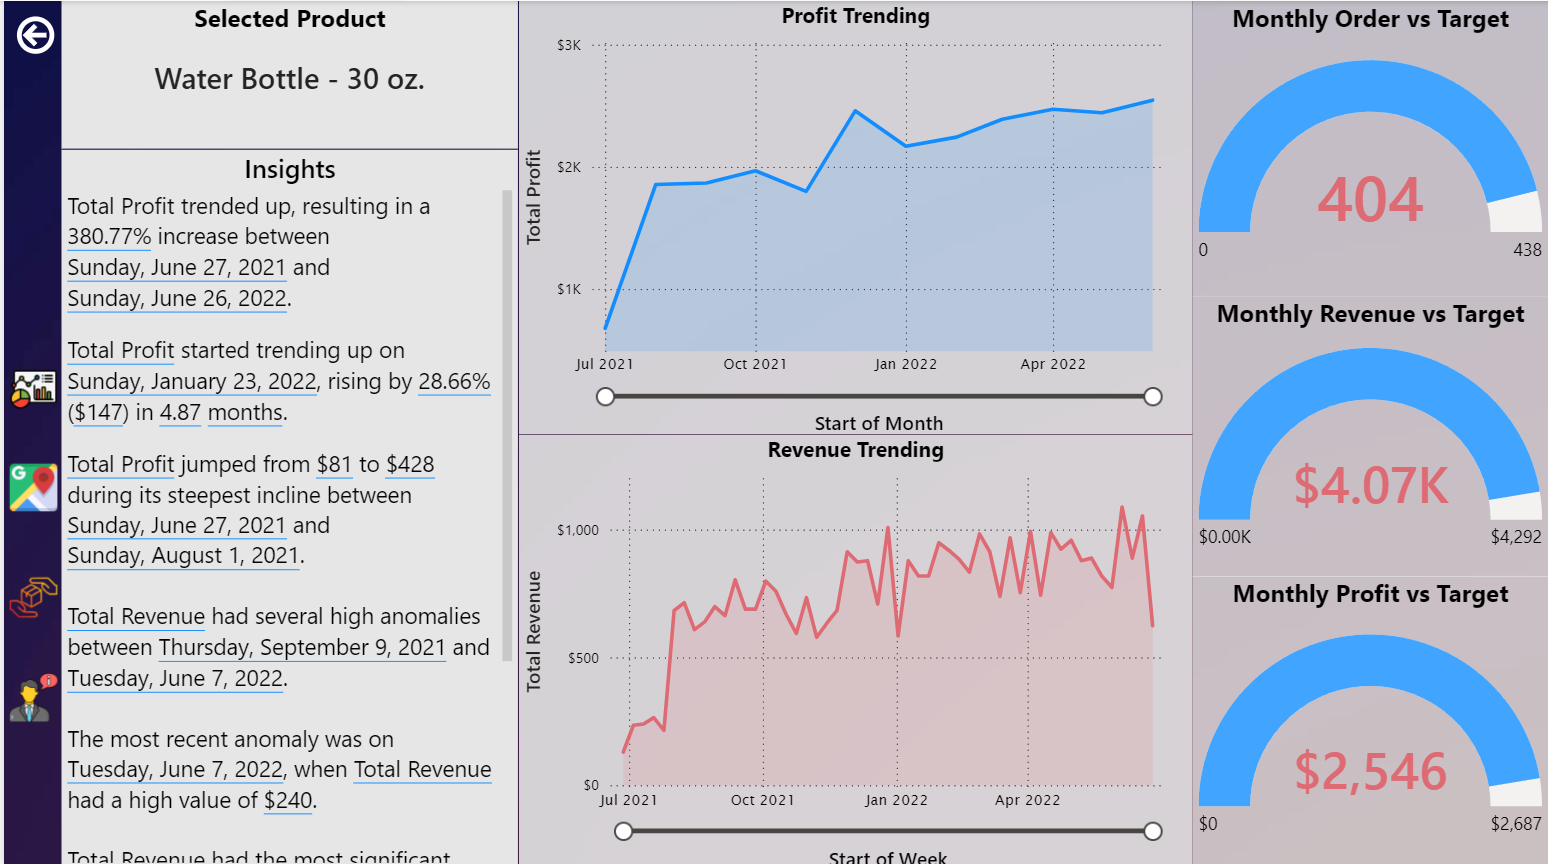

The page's visual inventory and layout, read from the dashboard file:
{"tool":"powerbi","page":{"name":"Product Details","canvas":[1280,720],"ordinal":2},"visuals":[{"type":"shape","title":"Left Nav Bar","box":[0,0,48,720.3],"z":0},{"type":"gauge","title":"Monthly Order vs Target","fields":{"MaxValue":["Table Measure.Order Target"],"Y":["Table Measure.Total Orders"]},"box":[985.2,0,294.8,244.5],"z":1000},{"type":"actionButton","box":[0,545,100,65],"z":1000,"group":"g1"},{"type":"actionButton","box":[0,468.3,100,52.5],"z":1500,"group":"g1"},{"type":"gauge","title":"Monthly Revenue vs Target","fields":{"MaxValue":["Table Measure.Target Revenue"],"Y":["Table Measure.Total Revenue"]},"box":[985.2,244.5,294.8,232.5],"z":2000},{"type":"actionButton","box":[0,377.1,100,52.5],"z":2000,"group":"g1"},{"type":"gauge","title":"Monthly Profit vs Target","fields":{"MaxValue":["Table Measure.Profit Target"],"Y":["Table Measure.Total Profit"]},"box":[985.2,477,294.8,243.3],"z":3000},{"type":"areaChart","title":"Profit Trending","fields":{"Category":["Calendar Lookup.Start of Month"],"Y":["Table Measure.Total Profit"]},"box":[426.7,0,558.5,359.6],"z":4000},{"type":"actionButton","box":[0,283.8,100,76.2],"z":4000,"group":"g1"},{"type":"areaChart","title":"Revenue Trending","fields":{"Category":["Calendar Lookup.Date Hierarchy.Start of Year","Calendar Lookup.Date Hierarchy.Start of Month","Calendar Lookup.Date Hierarchy.Start of Week","Calendar Lookup.Date Hierarchy.Date"],"Y":["Table Measure.Total Revenue"]},"box":[426.7,359.6,558.5,360.7],"z":5000},{"type":"actionButton","box":[6.2,8.8,82.5,40],"z":6000},{"type":"cardVisual","title":"Selected Product","fields":{"Rows":["Product Lookup.ProductName"]},"box":[47.5,0,378.8,122.5],"z":7000},{"type":"textbox","title":"Insights ","box":[47.5,123.8,378.8,596.2],"z":8000},{"type":"group","id":"g1","title":"Navigation","box":[0,283.8,100,326.2],"z":8001}]}

Visuals, with their boxes on the page's 1280x720 design canvas (x1, y1, x2, y2). These are canvas units, not pixel positions in the 1548x864 screenshot, which may show the page scaled, cropped or inside an application window:
"Left Nav Bar" shape: bbox=(0, 0, 48, 720)
"Monthly Order vs Target" gauge: bbox=(985, 0, 1280, 244)
actionButton: bbox=(0, 545, 100, 610)
actionButton: bbox=(0, 468, 100, 521)
"Monthly Revenue vs Target" gauge: bbox=(985, 244, 1280, 477)
actionButton: bbox=(0, 377, 100, 430)
"Monthly Profit vs Target" gauge: bbox=(985, 477, 1280, 720)
"Profit Trending" areaChart: bbox=(427, 0, 985, 360)
actionButton: bbox=(0, 284, 100, 360)
"Revenue Trending" areaChart: bbox=(427, 360, 985, 720)
actionButton: bbox=(6, 9, 89, 49)
"Selected Product" cardVisual: bbox=(48, 0, 426, 122)
"Insights " textbox: bbox=(48, 124, 426, 720)
"Navigation" group: bbox=(0, 284, 100, 610)
